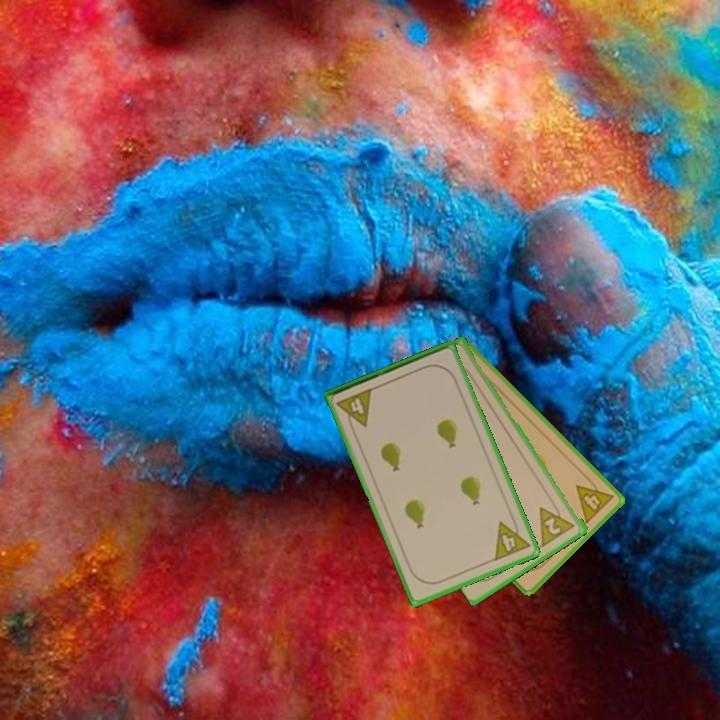2p: (536, 497, 578, 549)
4p: (572, 472, 616, 527), (490, 513, 533, 564), (333, 384, 376, 434)
